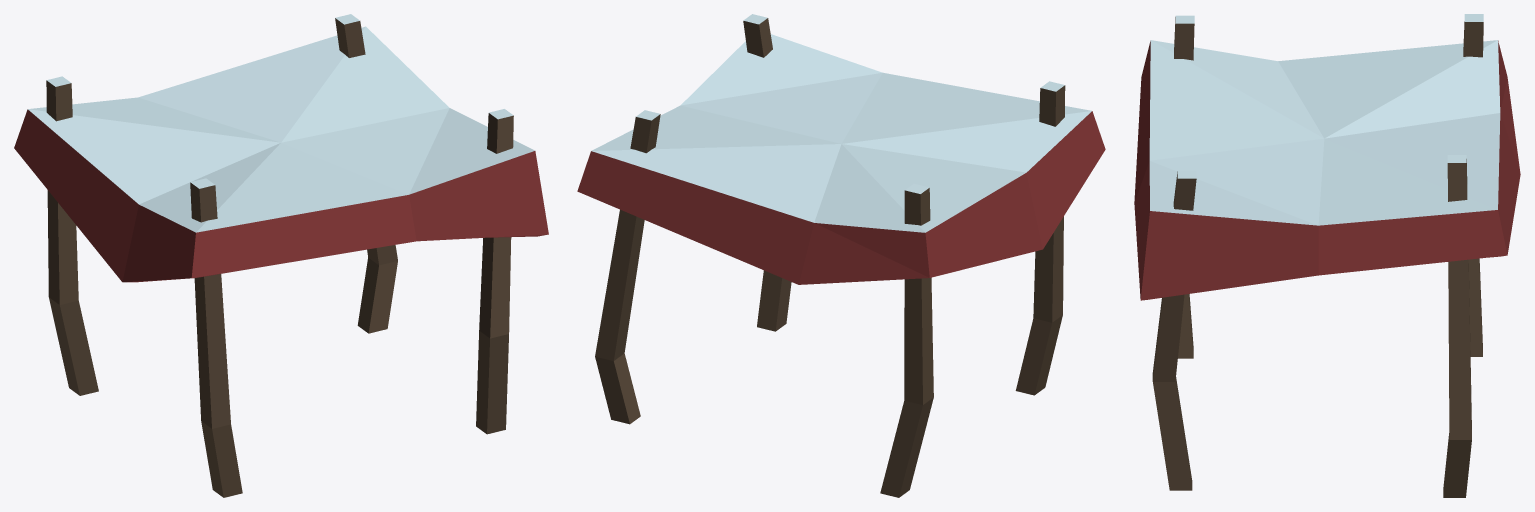
File: SM_Prop_Adventure_Cover_01_Snow.fbx
The picture shows the model from 3 angles, left to right: view 1: azimuth 30°, elevation 25°; view 2: azimuth 150°, elevation 25°; view 3: azimuth 270°, elevation 25°; orthographic projection. The views are drawn at different scales.
Parts seen in each view (by area): view 1: SM_Prop_Aventure_Cover_01_Snow; view 2: SM_Prop_Aventure_Cover_01_Snow; view 3: SM_Prop_Aventure_Cover_01_Snow.
Part boxes in pixels (<box>): SM_Prop_Aventure_Cover_01_Snow: <box>14,14,548,497</box>; SM_Prop_Aventure_Cover_01_Snow: <box>577,14,1105,497</box>; SM_Prop_Aventure_Cover_01_Snow: <box>1134,14,1520,497</box>.
Size of the model in its own units: 68.59 by 56.69 by 61.56.
1 material, 1 textured.
